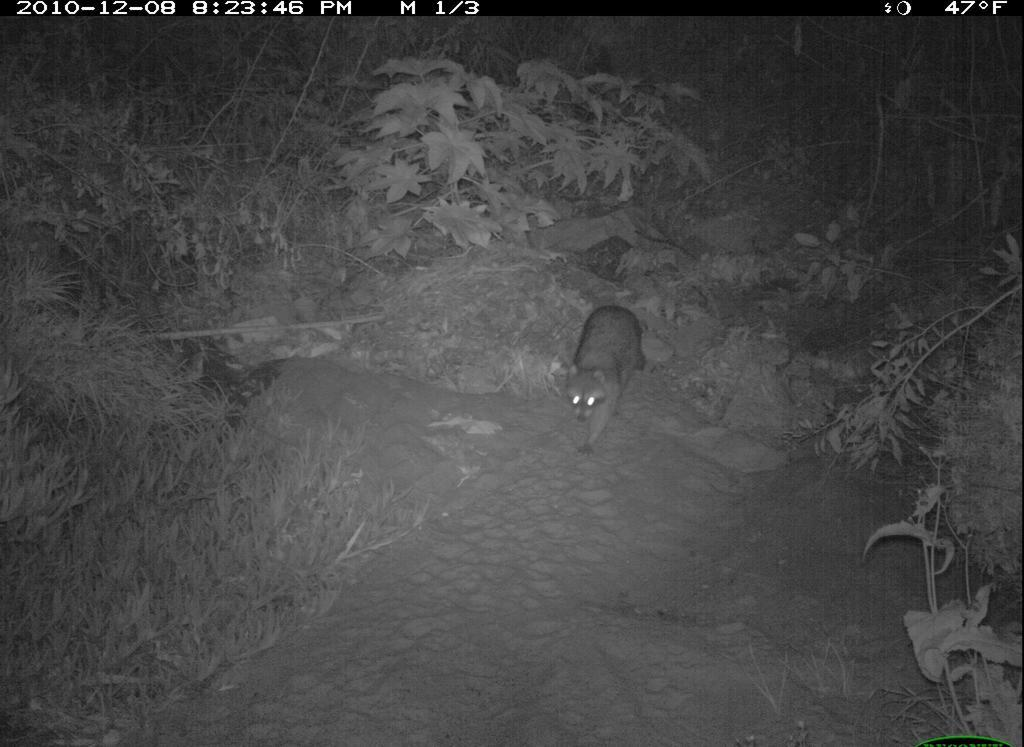raccoon: (564, 299, 662, 456)
